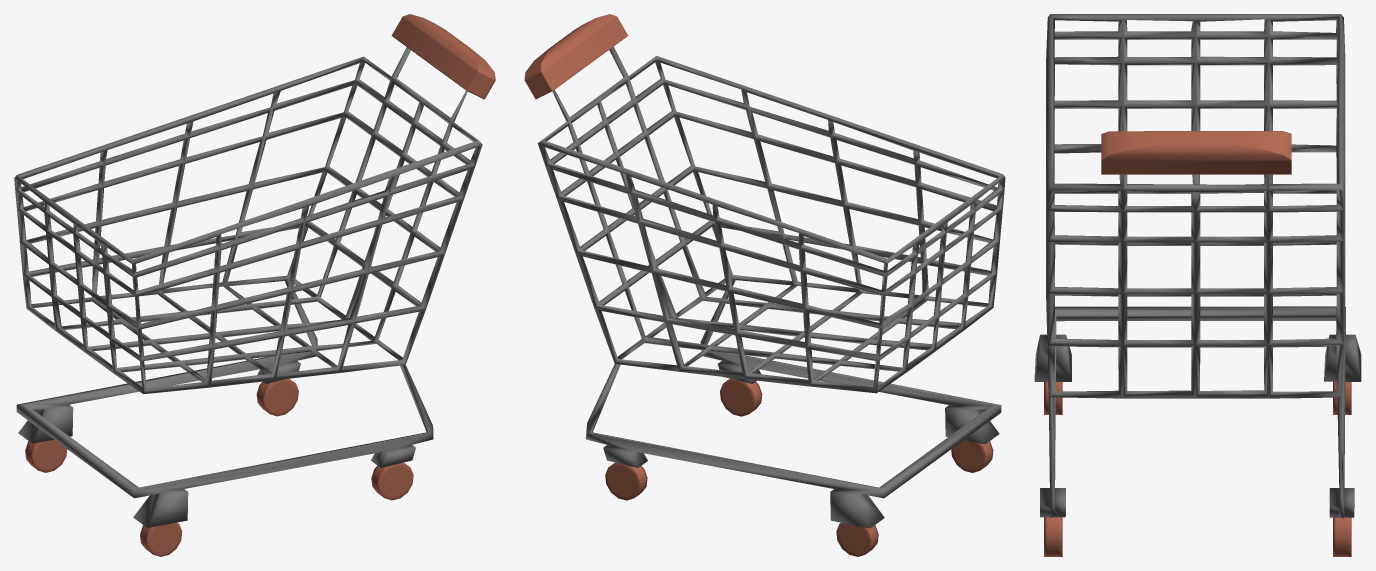
Rendered from carrito.fbx.
The picture shows the model from 3 angles, left to right: view 1: azimuth 30°, elevation 25°; view 2: azimuth 150°, elevation 25°; view 3: azimuth 270°, elevation 25°; orthographic projection. The views are drawn at different scales.
Visible parts, largest first — view 1: shopping cart_base, shopping cart_wheel, shopping hand; view 2: shopping cart_base, shopping cart_wheel, shopping hand; view 3: shopping cart_base, shopping hand, shopping cart_wheel.
Part boxes in pixels (x1,y1,x2,y2): shopping cart_base: [14, 47, 482, 527]; shopping cart_wheel: [25, 378, 413, 556]; shopping hand: [391, 14, 495, 99]; shopping cart_base: [538, 46, 1005, 528]; shopping cart_wheel: [605, 378, 993, 556]; shopping hand: [524, 14, 628, 99]; shopping cart_base: [1034, 14, 1361, 518]; shopping hand: [1101, 131, 1291, 174]; shopping cart_wheel: [1044, 381, 1351, 556].
Bounding box in the file's own units: 98.47 × 94.9 × 57.12.
